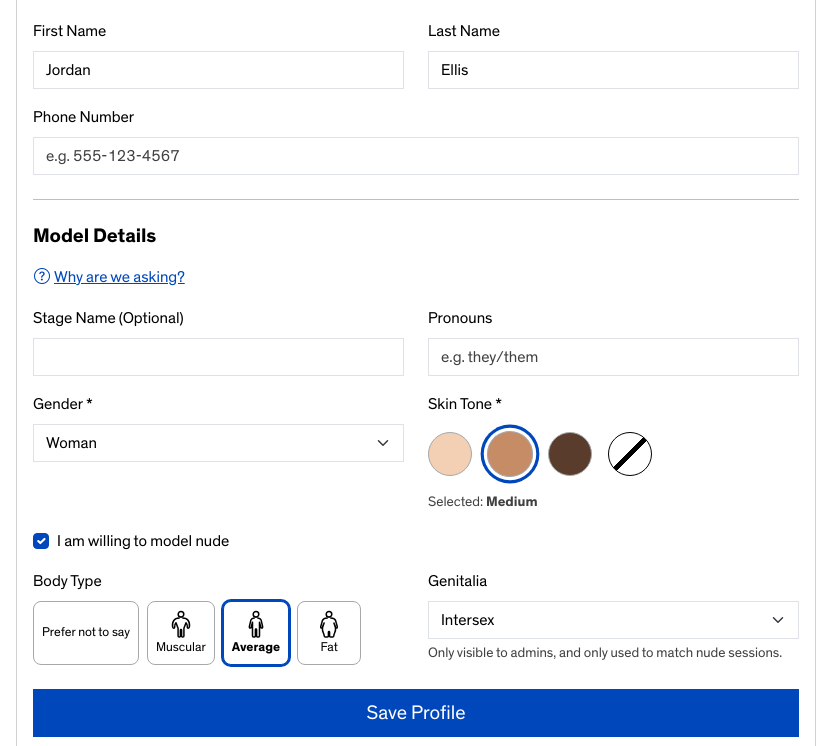
Test: Profile › brings a refused save’s reason into view and moves focus to it, even when scrolled down
(page scrolled)
What coordinates should you click on to do the following:
click the button "Save Profile"
I would click on:
 (416, 713)
Its box is top-left (33, 689), bottom-right (799, 737).
(page scrolled)
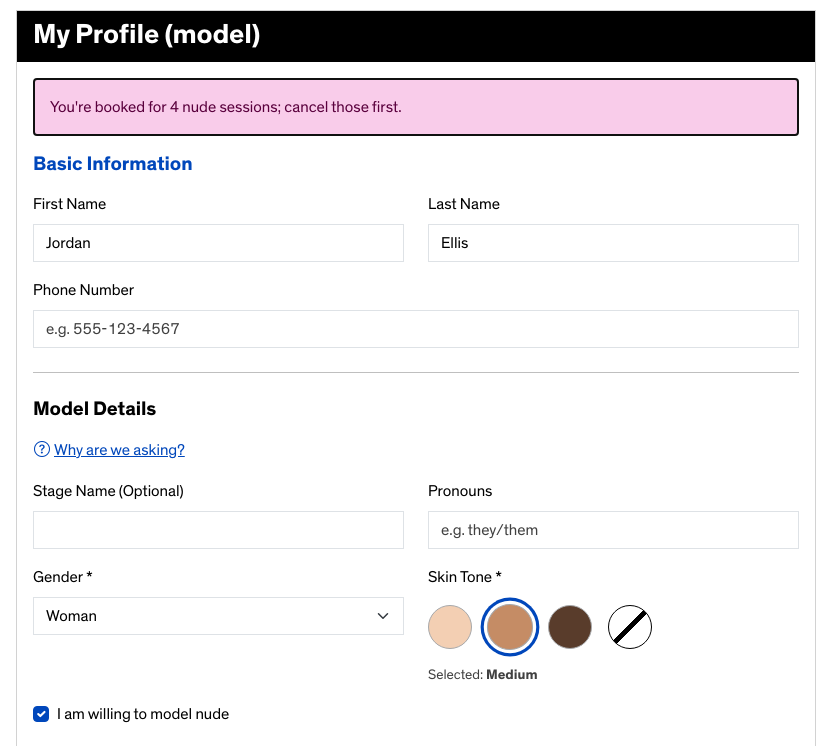
Expected: the message shows "booked for 4 nude sessions", top-left (50, 99), bottom-right (402, 115)
